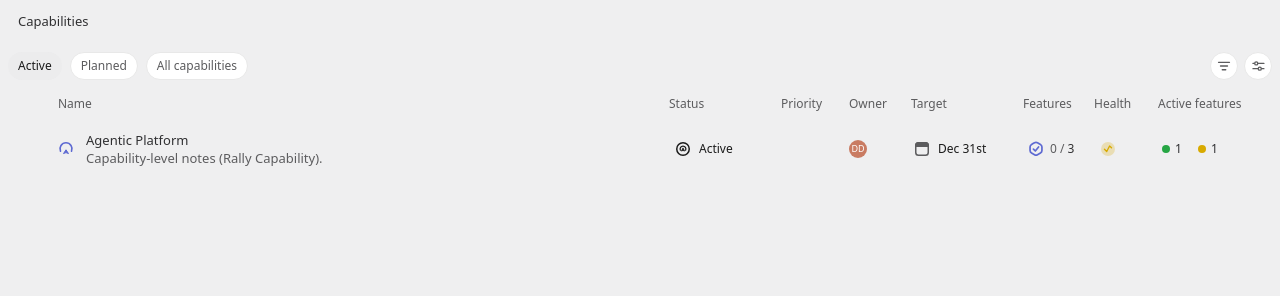
Test case: one feature, plural counts, and a capability without features reads a bare 0
Click the tab "All capabilities" at (197, 66), box [146,52,248,80]
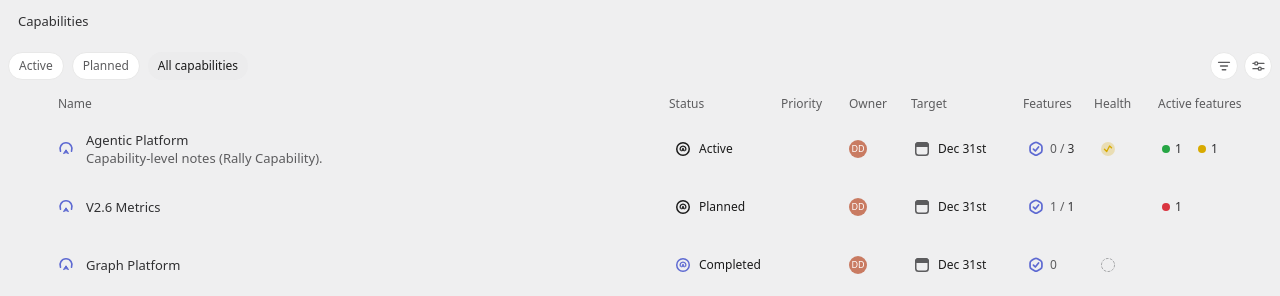
Expected: the button named "1 feature off track. Click to open updates." is shown, [1155,196,1189,218]
Expected: the button named "0 of 0 features completed. Click to view features." reads "0", [1023,253,1062,277]
Expected: the button named "There are no updates for this capability" is shown, [1094,251,1122,279]
